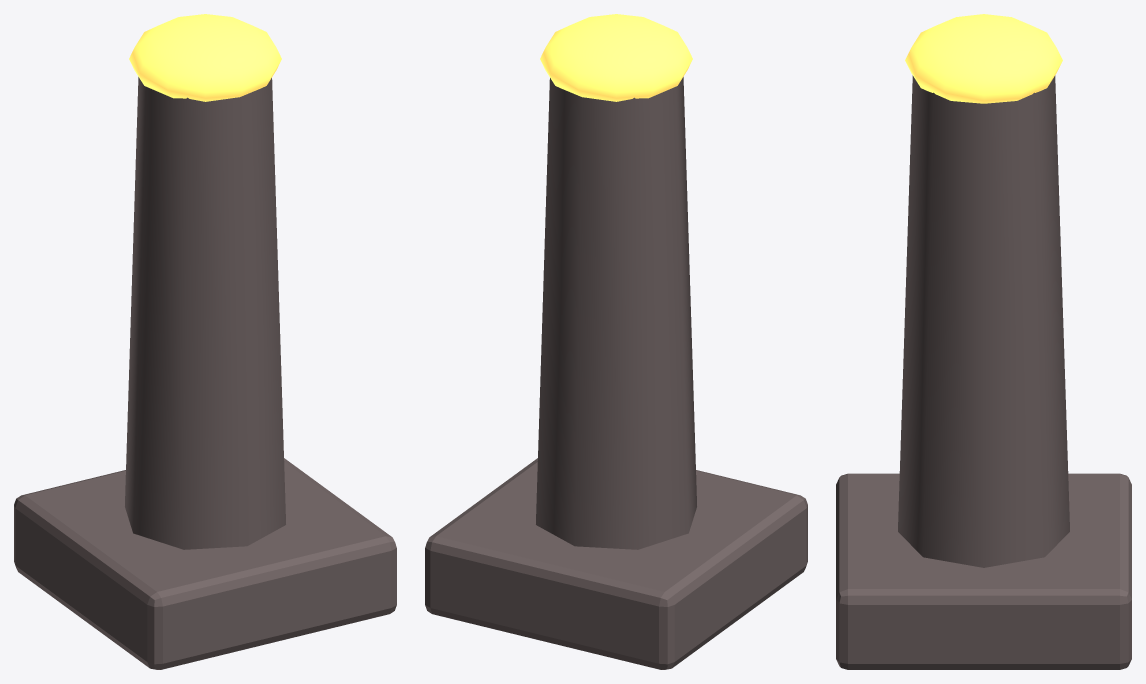
The model's file is ENV_Volcano_Pillar.fbx.
3 renders of one model, left to right at view 1: azimuth 30°, elevation 25°; view 2: azimuth 150°, elevation 25°; view 3: azimuth 270°, elevation 25°, orthographic. The views are drawn at different scales.
Parts seen in each view (by area): view 1: ENV_Volcano_Pillar; view 2: ENV_Volcano_Pillar; view 3: ENV_Volcano_Pillar.
Part boxes in pixels (bbox=[...]): ENV_Volcano_Pillar: bbox=[14, 14, 396, 669]; ENV_Volcano_Pillar: bbox=[425, 14, 807, 669]; ENV_Volcano_Pillar: bbox=[836, 14, 1131, 669].
Bounding box in the file's own units: 0.75 × 1.63 × 0.75.
